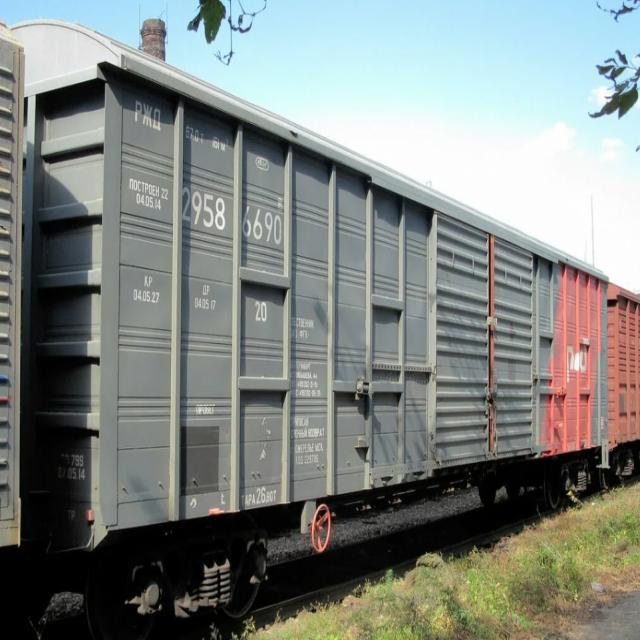boxcar: (12, 13, 611, 625)
